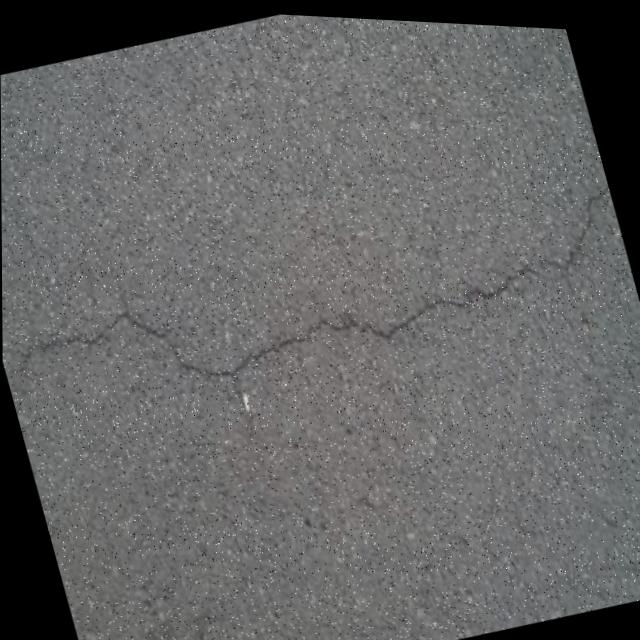Crack: (1, 142, 636, 450)
